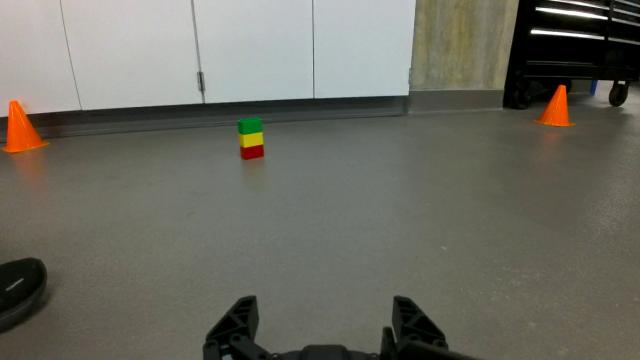lego: (236, 114, 272, 168)
